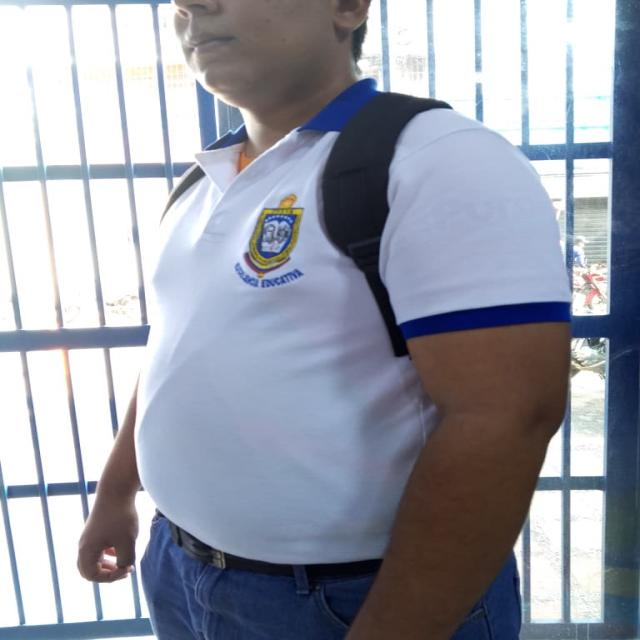uniforme_superior: (134, 76, 570, 564)
